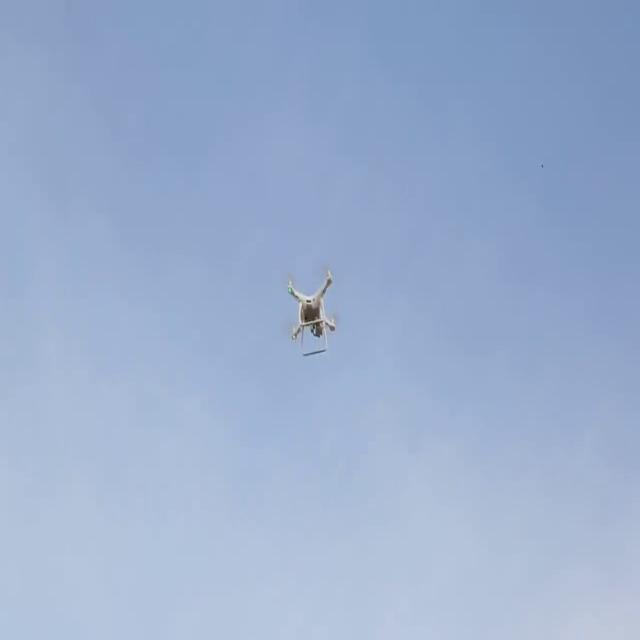drone: (279, 266, 343, 348)
